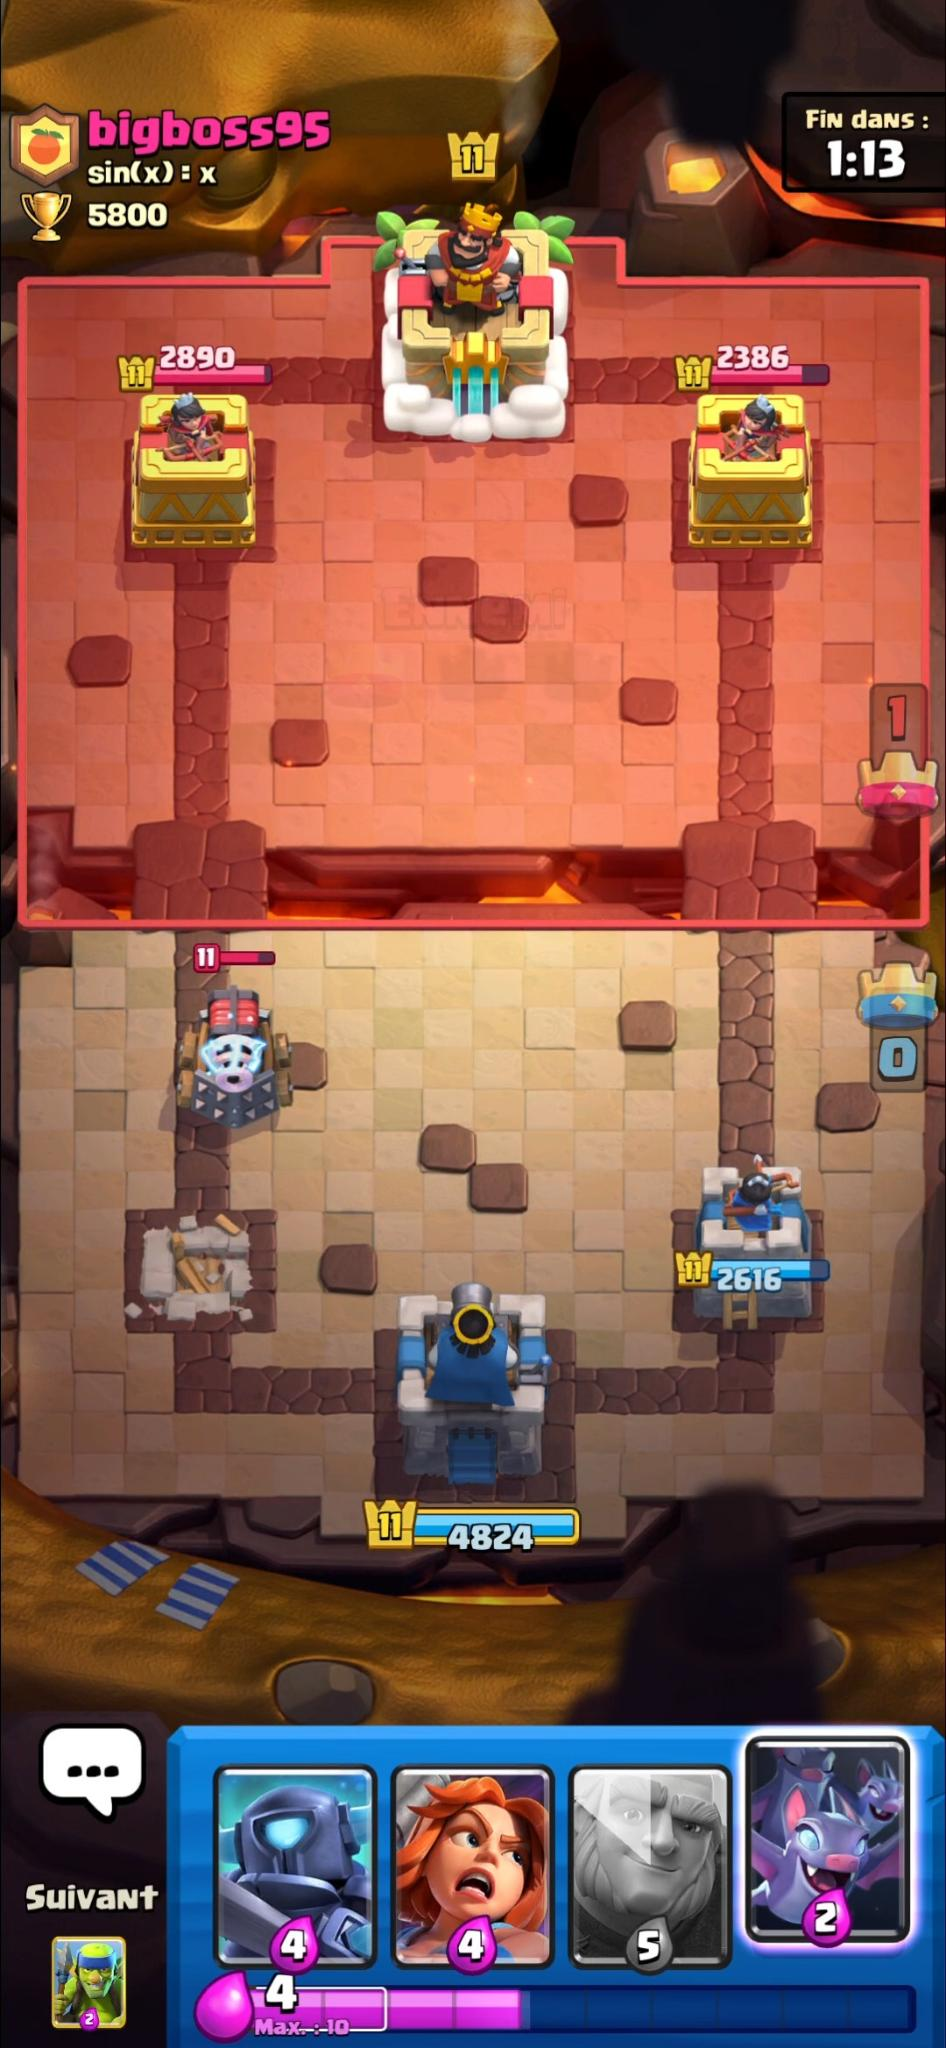zappy: (178, 984, 295, 1126)
